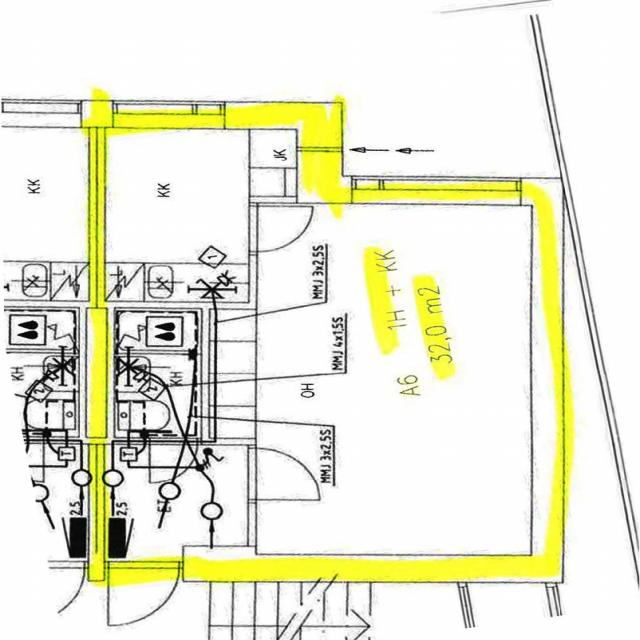door: (108, 546, 178, 638), (248, 448, 322, 500), (248, 206, 314, 251), (150, 438, 197, 482)
